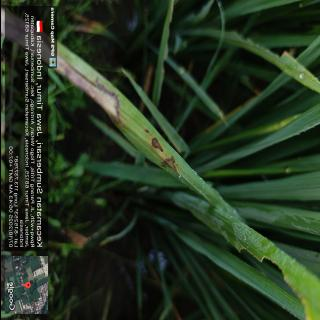Blast: (57, 56, 119, 127), (148, 133, 164, 155), (156, 155, 177, 171)
